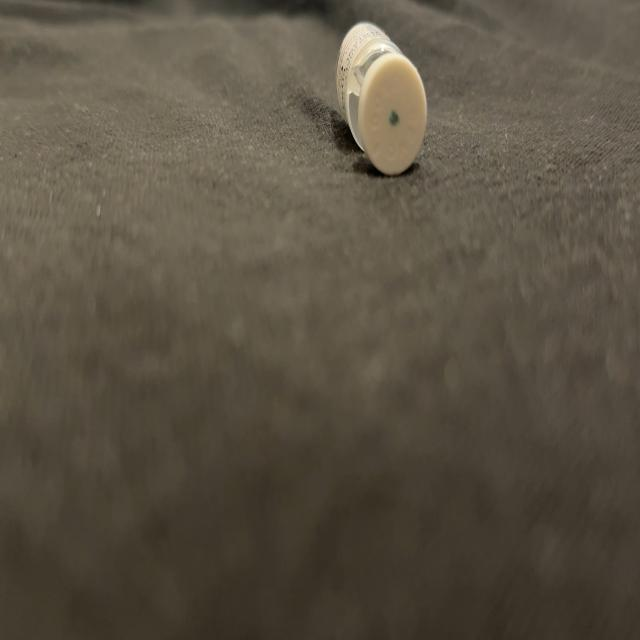fentanl_citrat: (337, 23, 426, 174)
